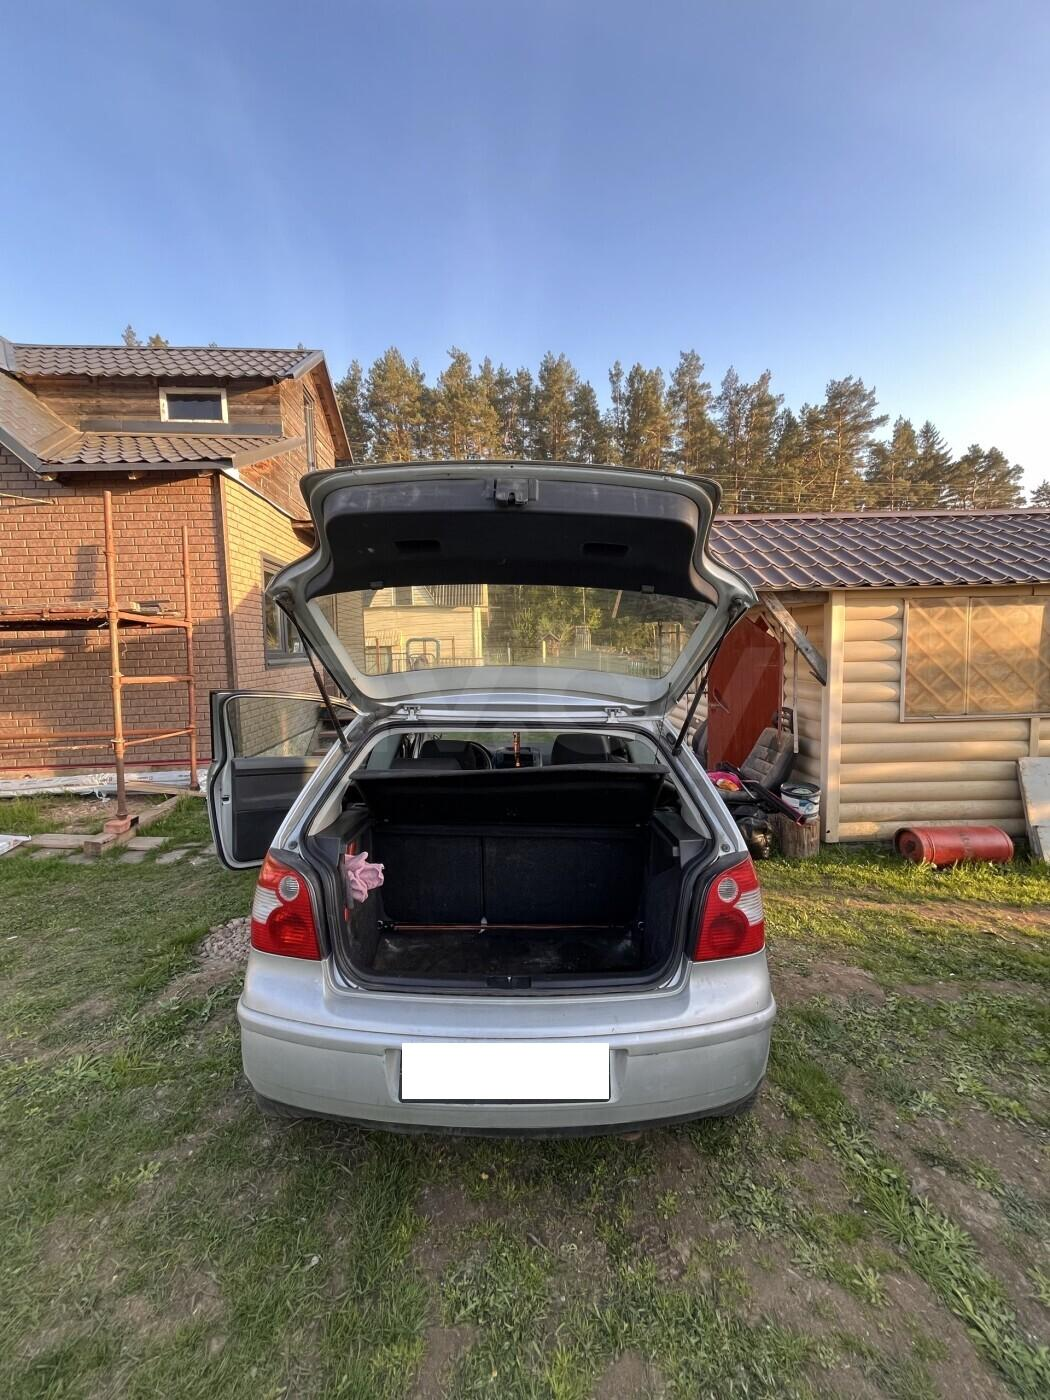Volswagen_Polo_2002_2500: (206, 457, 780, 1137)
